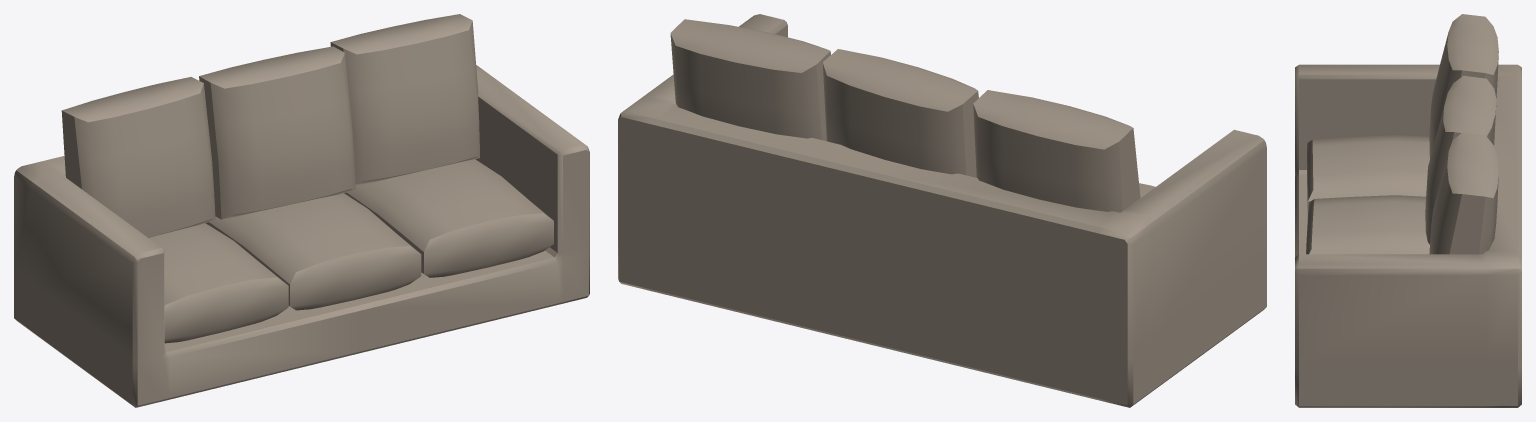
Rendered from pk_motion_taupe.glb.
3 renders of one model, left to right at view 1: azimuth 30°, elevation 25°; view 2: azimuth 150°, elevation 25°; view 3: azimuth 270°, elevation 25°, orthographic. The views are drawn at different scales.
Parts seen in each view (by area): view 1: pk_motion_taupe; view 2: pk_motion_taupe; view 3: pk_motion_taupe.
Boxes of the visible parts, x1,y1,x2,y2 form: pk_motion_taupe: [14, 14, 589, 407]; pk_motion_taupe: [618, 14, 1266, 407]; pk_motion_taupe: [1295, 14, 1521, 407].
Size of the model in its own units: 2.15 by 1 by 1.
Materials: 1 (1 with a texture image).
